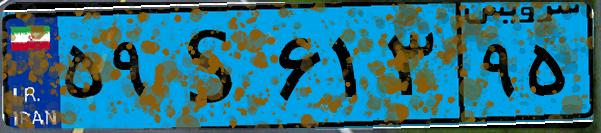1: (330, 28, 385, 110)
3: (385, 28, 445, 110)
5: (57, 26, 110, 100), (525, 38, 570, 115)
6: (270, 28, 330, 110)
9: (475, 38, 525, 113), (110, 28, 158, 98)
S: (158, 12, 270, 120)
